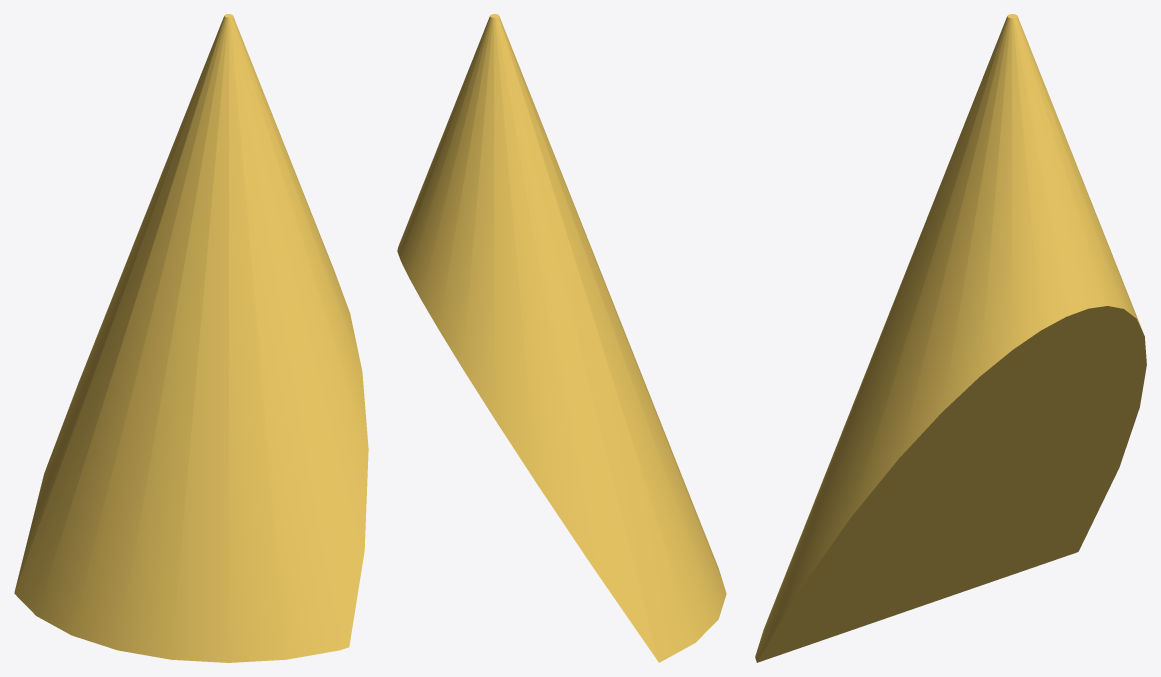
File: Cono_Paralelo_GeneratrizA.fbx
3 renders of one model, left to right at view 1: azimuth 30°, elevation 25°; view 2: azimuth 150°, elevation 25°; view 3: azimuth 270°, elevation 25°, orthographic. The views are drawn at different scales.
Parts seen in each view (by area): view 1: Difference2; view 2: Difference2; view 3: Difference2.
Boxes of the visible parts, bbox=[...] form: Difference2: bbox=[14, 14, 368, 662]; Difference2: bbox=[397, 14, 726, 662]; Difference2: bbox=[755, 14, 1146, 662].
Bounding box in the file's own units: 73.78 × 137 × 76.12.
